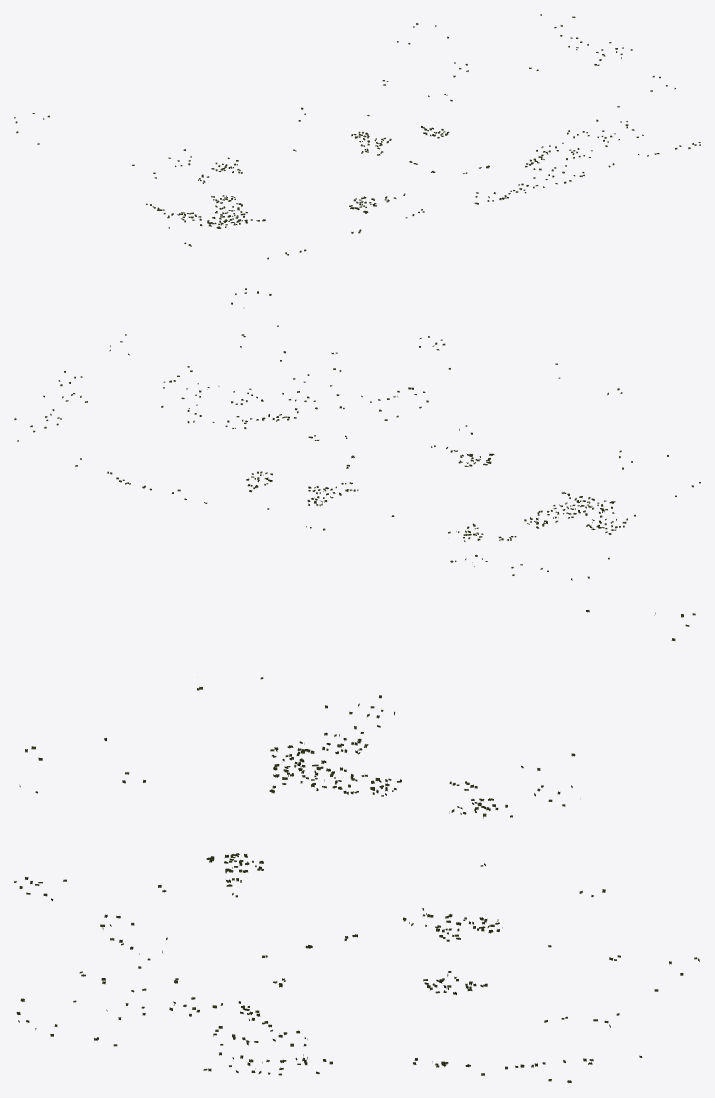
File: SM_Art_Cover_L_TheNorthernOath_GrassDry.gltf
The picture shows the model from 3 angles, top to bottom: view 1: azimuth 30°, elevation 25°; view 2: azimuth 150°, elevation 25°; view 3: azimuth 270°, elevation 25°; orthographic projection. The views are drawn at different scales.
Parts seen in each view (by area): view 1: SM_Art_Cover_L_TheNorthernOath_GrassDry; view 2: SM_Art_Cover_L_TheNorthernOath_GrassDry; view 3: SM_Art_Cover_L_TheNorthernOath_GrassDry.
Part boxes in pixels (left/top/right/bottom): SM_Art_Cover_L_TheNorthernOath_GrassDry: left=14, top=14, right=700, bottom=259; SM_Art_Cover_L_TheNorthernOath_GrassDry: left=14, top=288, right=700, bottom=580; SM_Art_Cover_L_TheNorthernOath_GrassDry: left=14, top=610, right=699, bottom=1083.
Size of the model in its own units: 231 by 20.87 by 148.
Materials: 1 (1 with a texture image).
